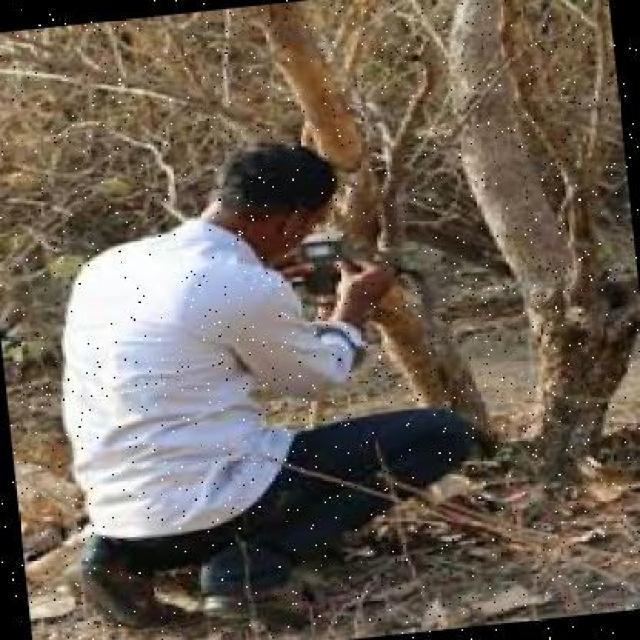poacher: (41, 115, 458, 631)
